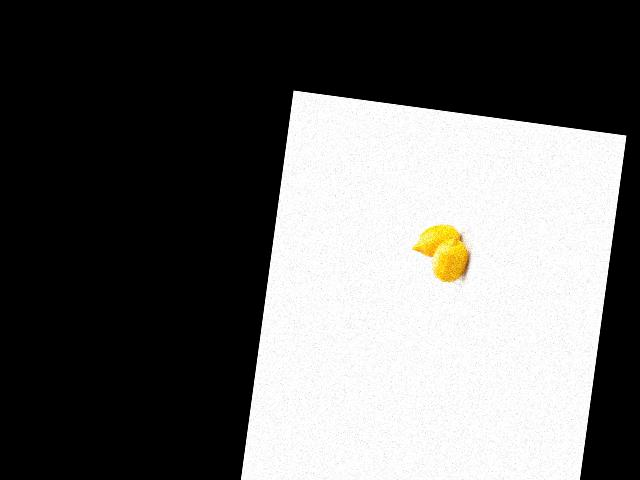lemon: (425, 234, 475, 287)
